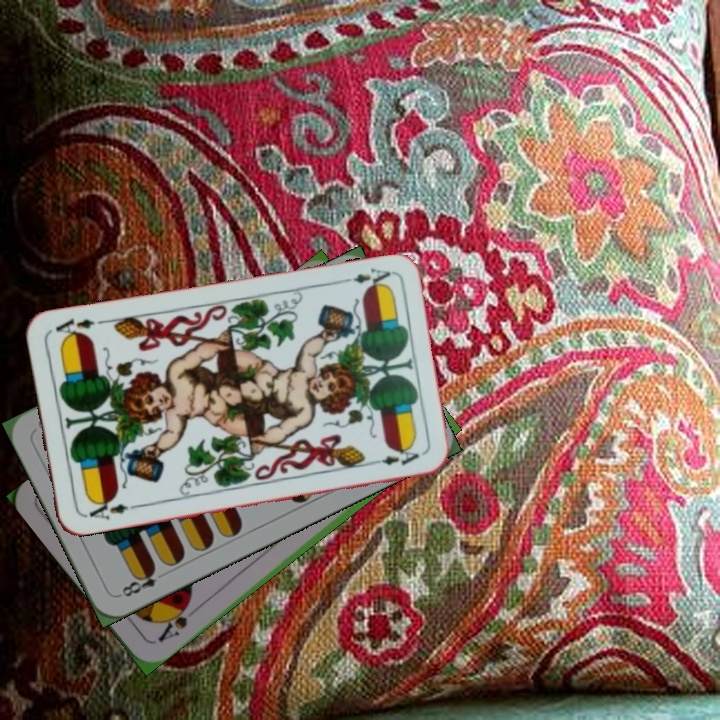E8: (114, 563, 170, 600)
EA: (80, 494, 139, 523), (335, 264, 393, 292)
SA: (153, 597, 194, 645)
